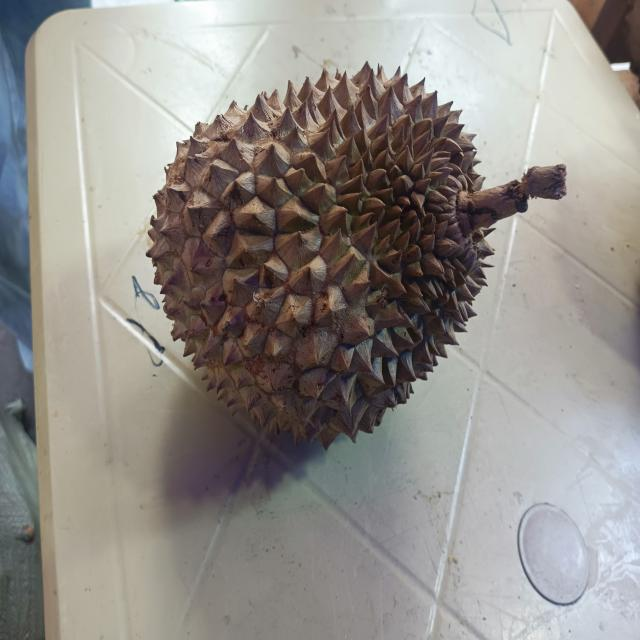mature: (146, 63, 566, 449)
